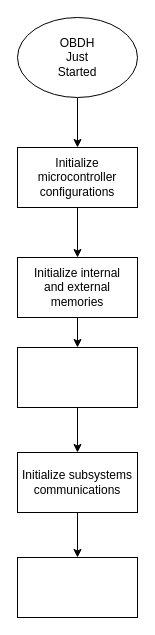
Some shapes in this 155 by 635 pixel diagram are drawn without their labels. The shapes that lost their labels are listed below. From the top down, each one's centre as x and y in pixels, then its label:
At point 77,377: "Initialize board sensors".
At point 77,587: "End".
